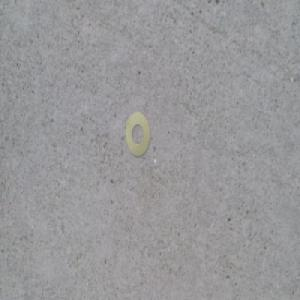Washer: (124, 109, 149, 159)
